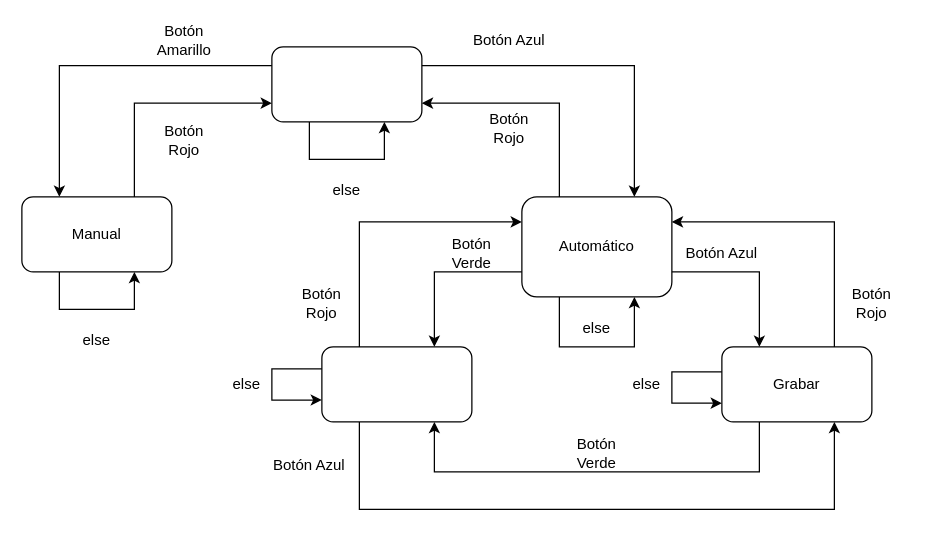
Some shapes in this 931 by 541 pixel diagram are drawn without their labels. The centre of each missing label's shape, as x and y in pixels:
"Ejecutar" belongs at point 396,384.
"Inicio" belongs at point 346,84.
